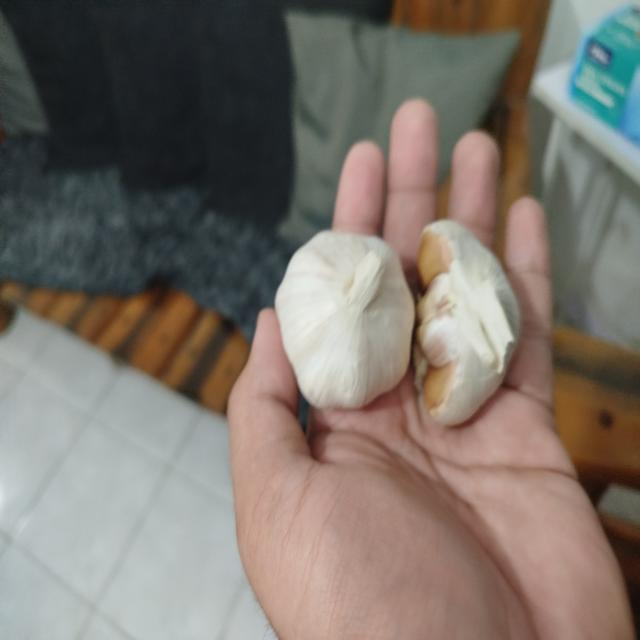garlic: (274, 229, 416, 410), (413, 218, 521, 428)
